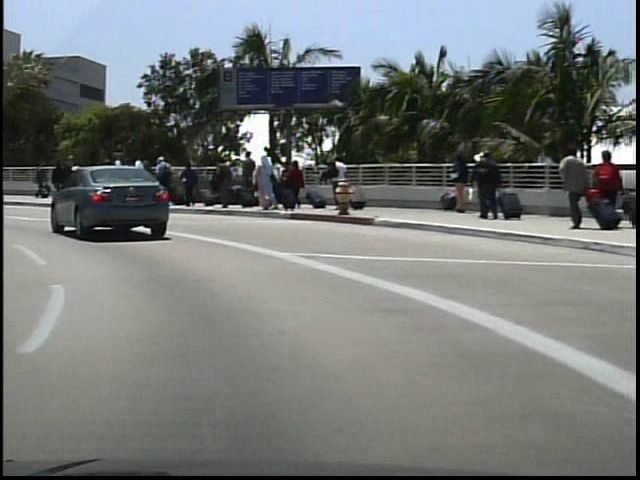person: (556, 146, 589, 229), (589, 146, 621, 227), (467, 148, 498, 219), (48, 152, 75, 211), (53, 152, 81, 205), (324, 152, 349, 206), (29, 159, 48, 201)
